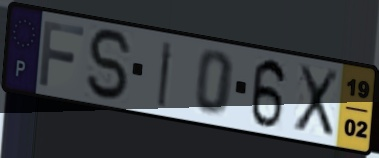0: (193, 47, 235, 120)
6: (250, 56, 289, 131)
F: (37, 18, 87, 90)
I: (155, 39, 175, 110)
S: (85, 27, 135, 104)
X: (291, 62, 341, 140)
